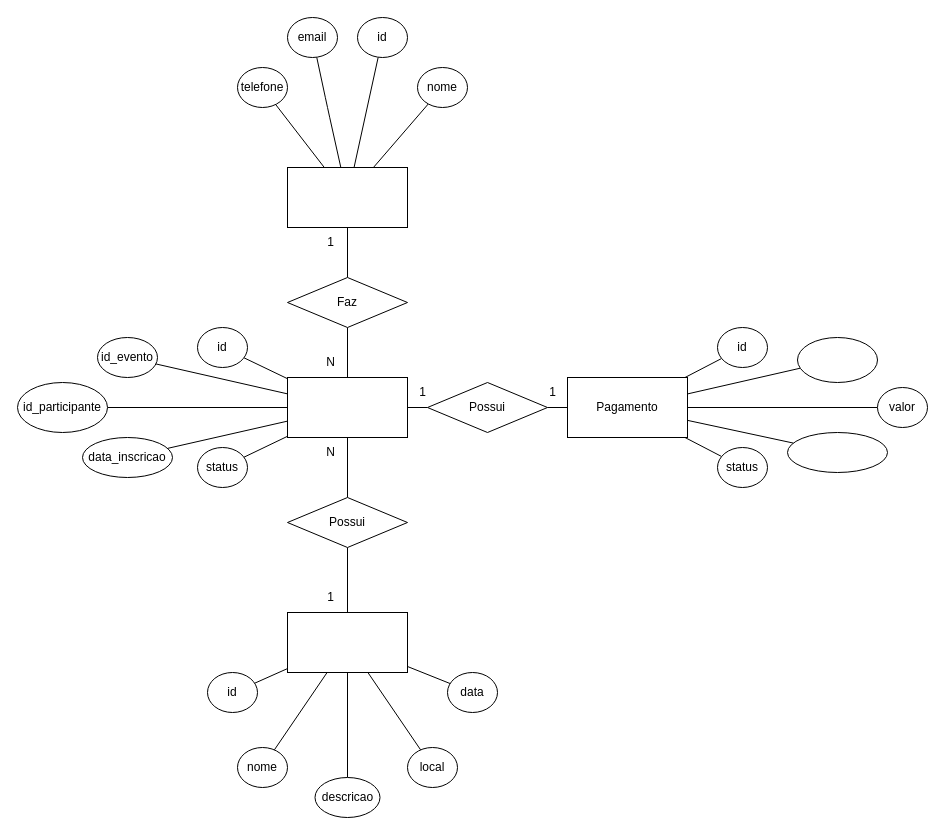
Image size: 945x835. Some labels were removed from this diagram. Each missing label, with the box of its shape:
data_pagamento: (786, 432, 888, 472)
Evento: (286, 612, 408, 672)
id_inscricao: (796, 336, 878, 382)
Inscricao: (286, 376, 408, 438)
Participante: (286, 166, 408, 228)
